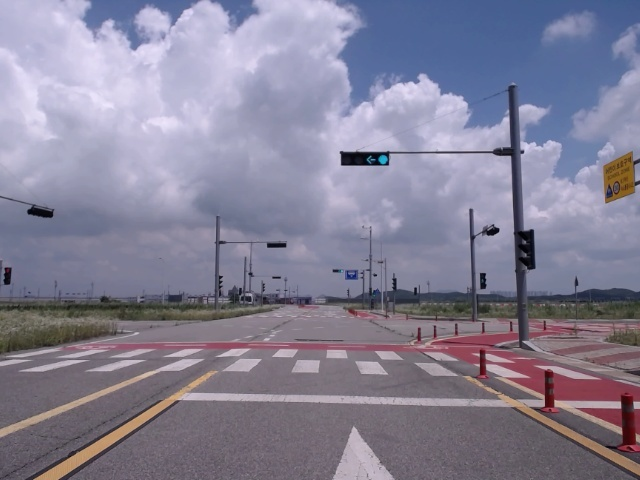all_green_4: (341, 150, 391, 168)
